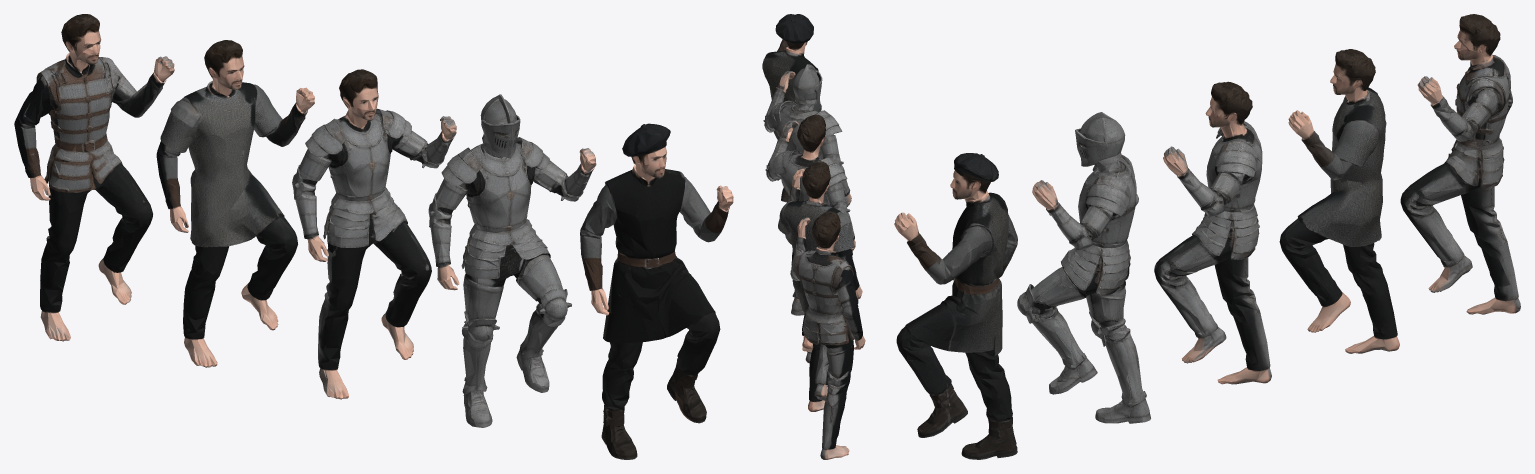
File: characters_walk.glb
3 views of the same model, side by side, from view 1: azimuth 30°, elevation 25°; view 2: azimuth 150°, elevation 25°; view 3: azimuth 270°, elevation 25° (orthographic). The views are drawn at different scales.
Bounding box in the file's own units: 1.39 × 1.06 × 1.9.
1 material, 1 textured.
